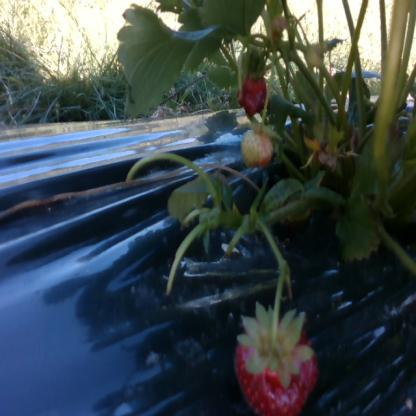ripe: (234, 323, 320, 415), (236, 76, 268, 114)
unripe: (241, 128, 273, 167)
